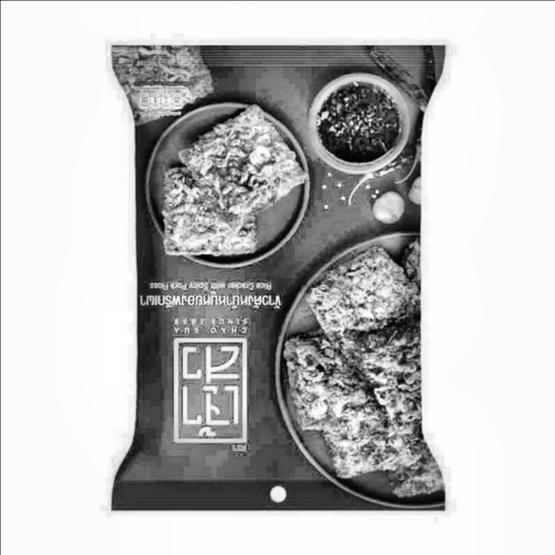snackbag: (76, 15, 470, 522)
